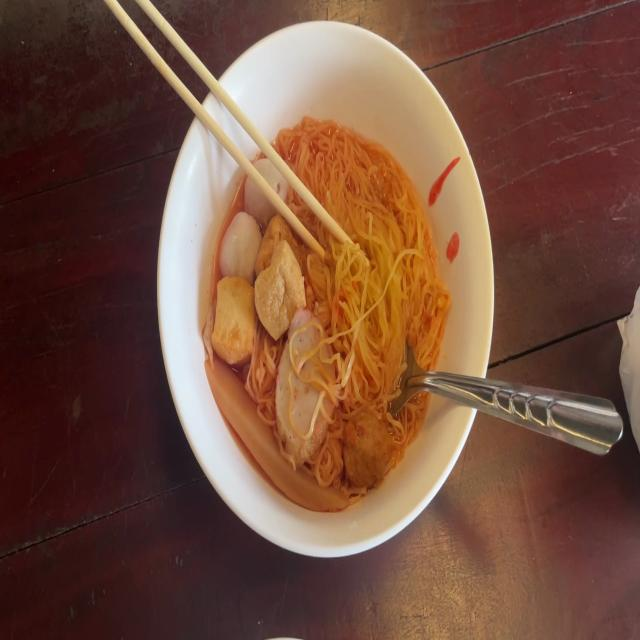crunchy_squid: (198, 350, 353, 516)
egg_noodles: (278, 122, 438, 412)
fish_ball: (215, 207, 264, 294), (242, 156, 289, 226)
fried_fish_balls: (278, 312, 333, 454)
fried_tofu: (250, 216, 300, 333)
noodle: (206, 117, 452, 516)
tofu: (212, 274, 258, 362)
